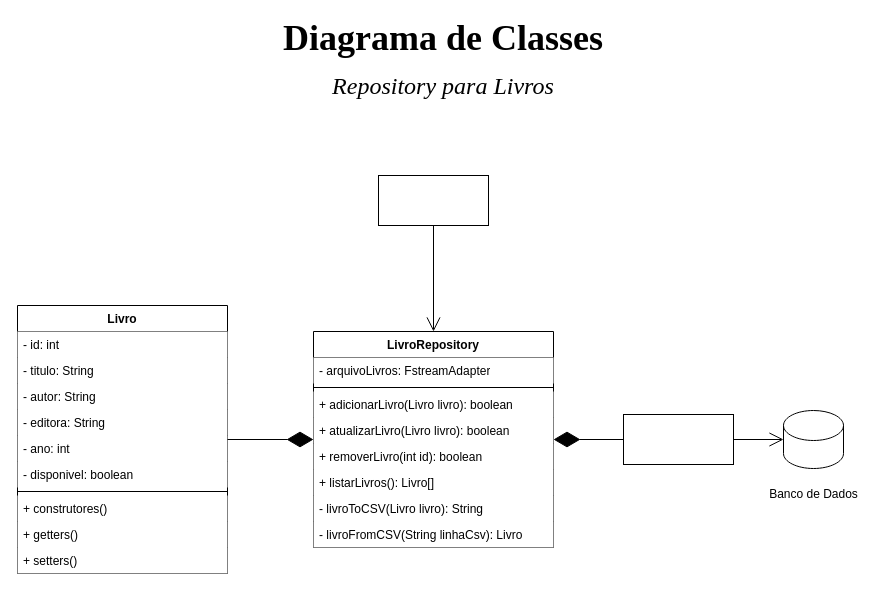
Some shapes in this 886 by 593 pixel diagram are drawn without their labels. Each missing label, with the centre of its shape:
"Facades" belongs at [433,200].
"FstreamAdapter" belongs at [678,439].
